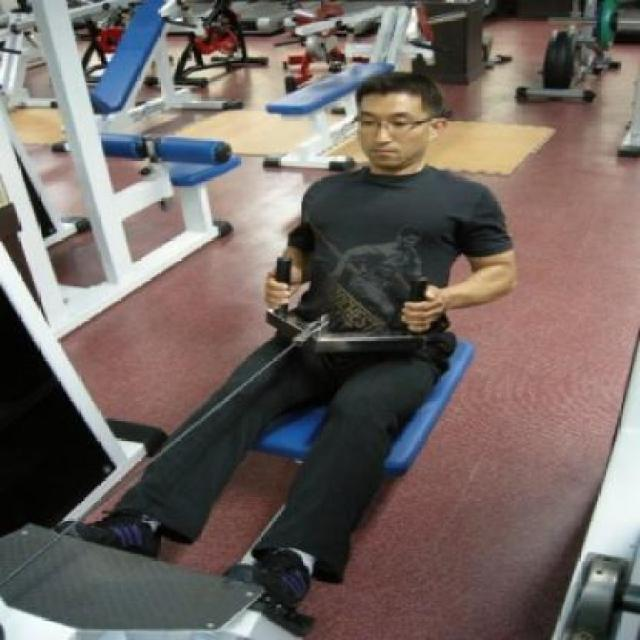Seated Cable Rows: (0, 12, 518, 639)
